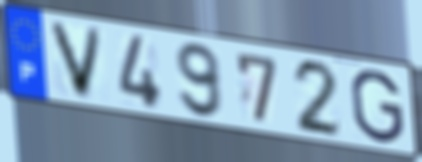2: (292, 58, 343, 140)
4: (115, 32, 164, 111)
7: (232, 51, 279, 124)
9: (173, 40, 223, 121)
G: (348, 68, 407, 146)
V: (45, 18, 106, 104)
